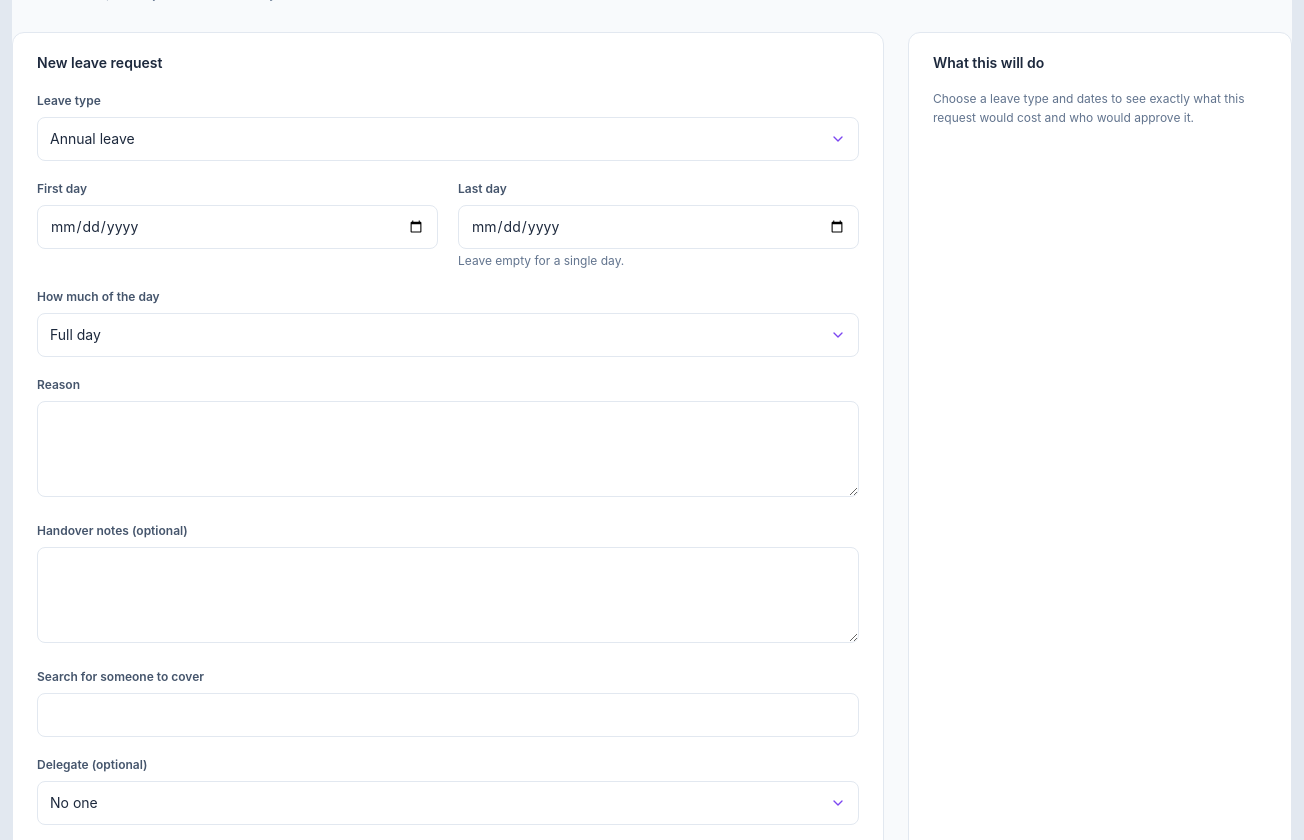
Test: New request flow › disables submit when the preview says it cannot proceed
Type "2026-10-15" into the date field labelled "First day" at (238, 226), box [37, 204, 438, 248]
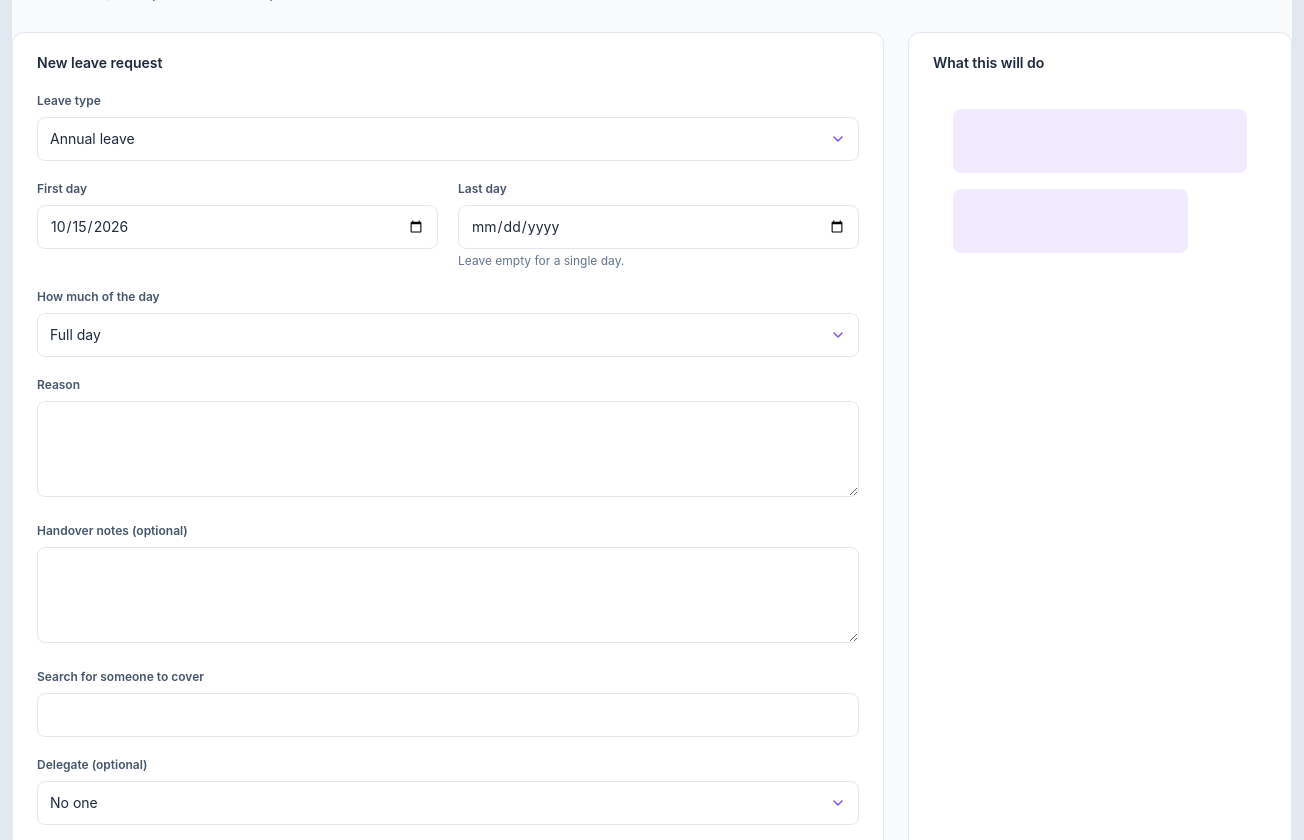
Type "2026-10-16" into the date field labelled "Last day" at (658, 226), box [458, 204, 859, 248]
(page scrolled)
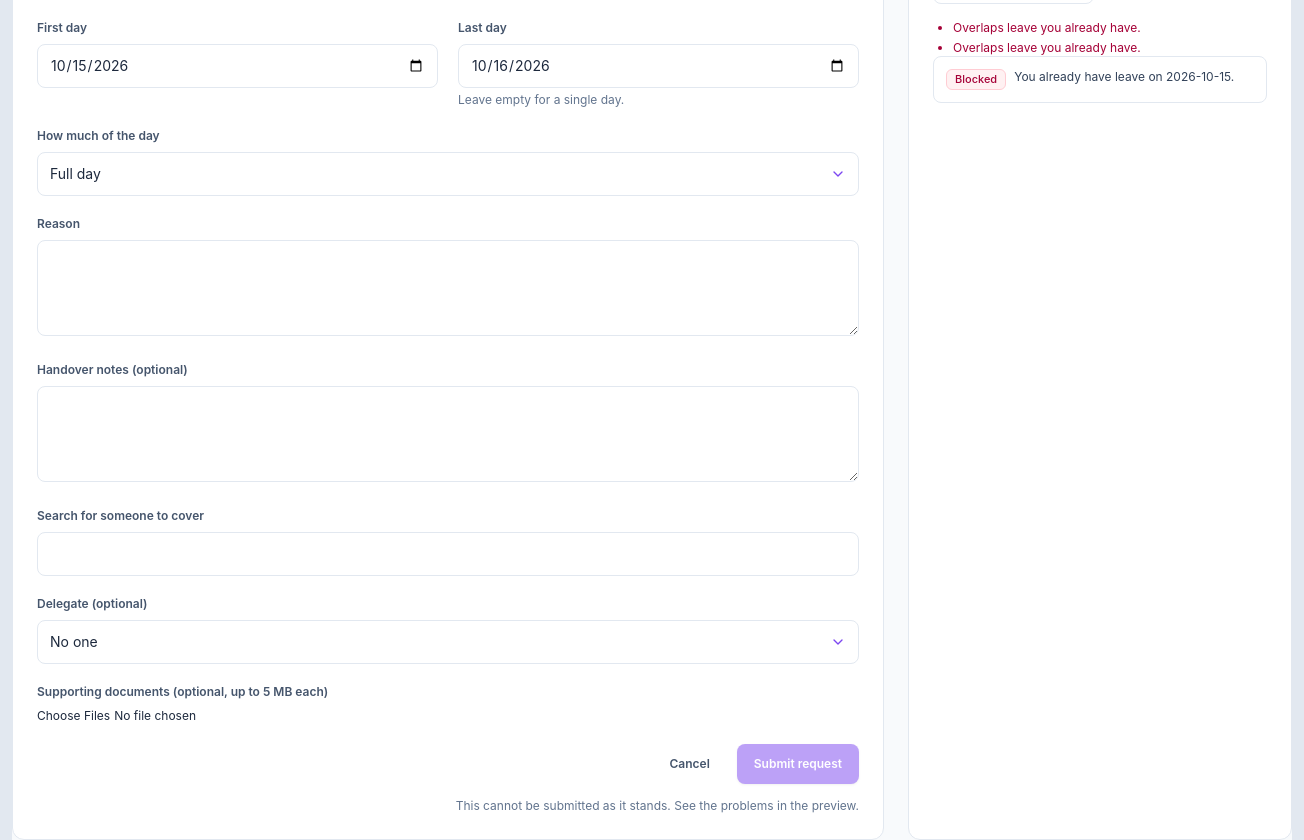
Expected: the text "You already have leave on 2026-10-15." is shown, [1014, 69, 1254, 85]
Expected: the text "Blocked" is shown, [946, 69, 1006, 90]
Expected: the button "Submit request" is disabled, [737, 744, 859, 784]
